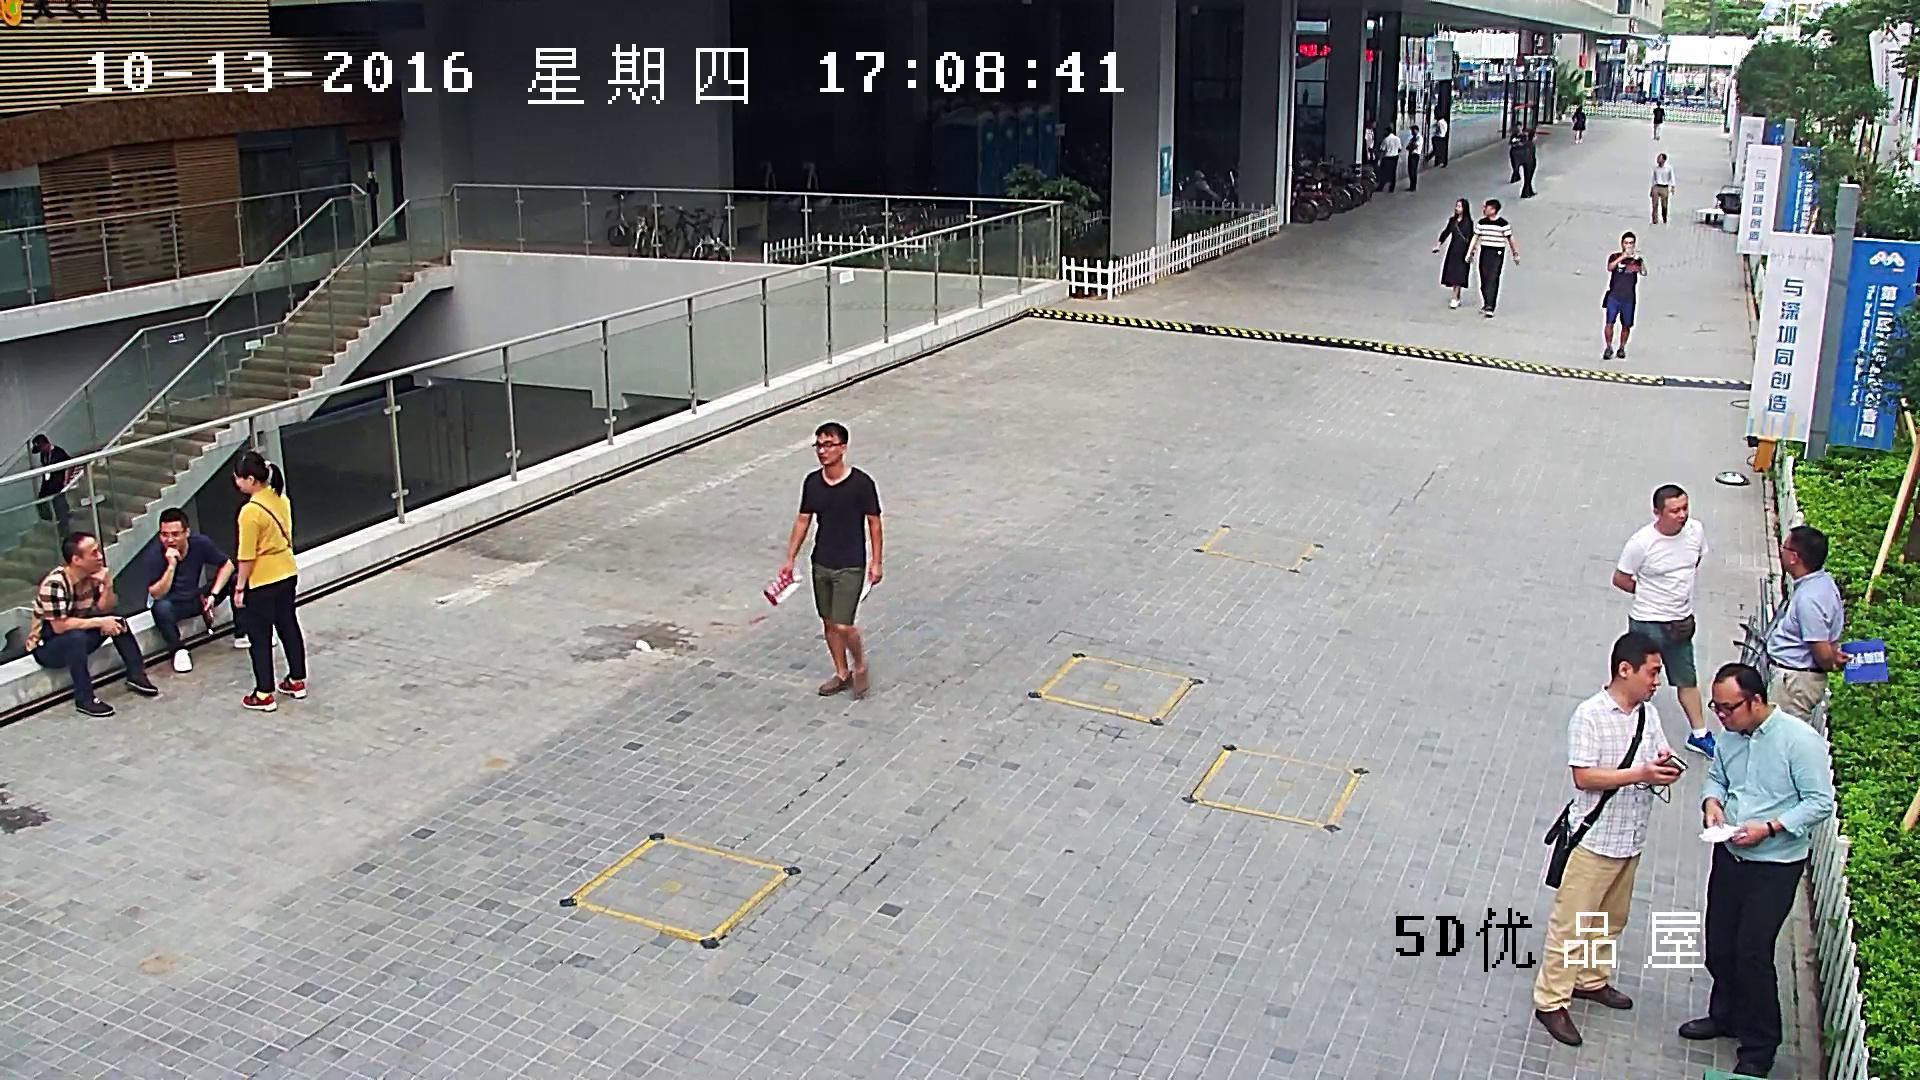person: (1531, 632, 1690, 1047), (1678, 663, 1835, 1080), (762, 422, 883, 699), (1612, 484, 1716, 761), (1764, 525, 1888, 724), (26, 532, 158, 718), (146, 508, 278, 673), (231, 453, 307, 712), (1764, 526, 1852, 723), (1464, 199, 1520, 317), (1602, 231, 1646, 359), (1432, 198, 1473, 309), (31, 433, 72, 537), (1649, 153, 1675, 224), (1373, 127, 1401, 192), (1514, 129, 1537, 198), (1405, 125, 1421, 191), (1508, 120, 1521, 182), (1436, 113, 1448, 168), (1572, 105, 1585, 144), (1364, 121, 1376, 162), (1653, 100, 1664, 140)
